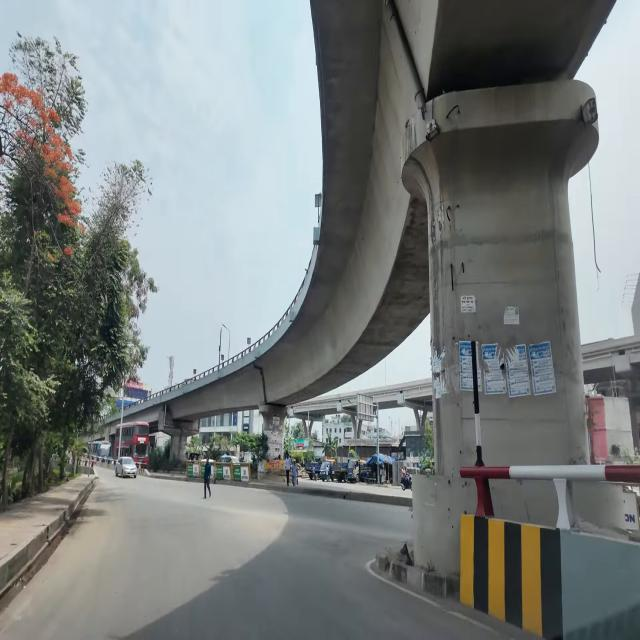person: (203, 457, 212, 499)
